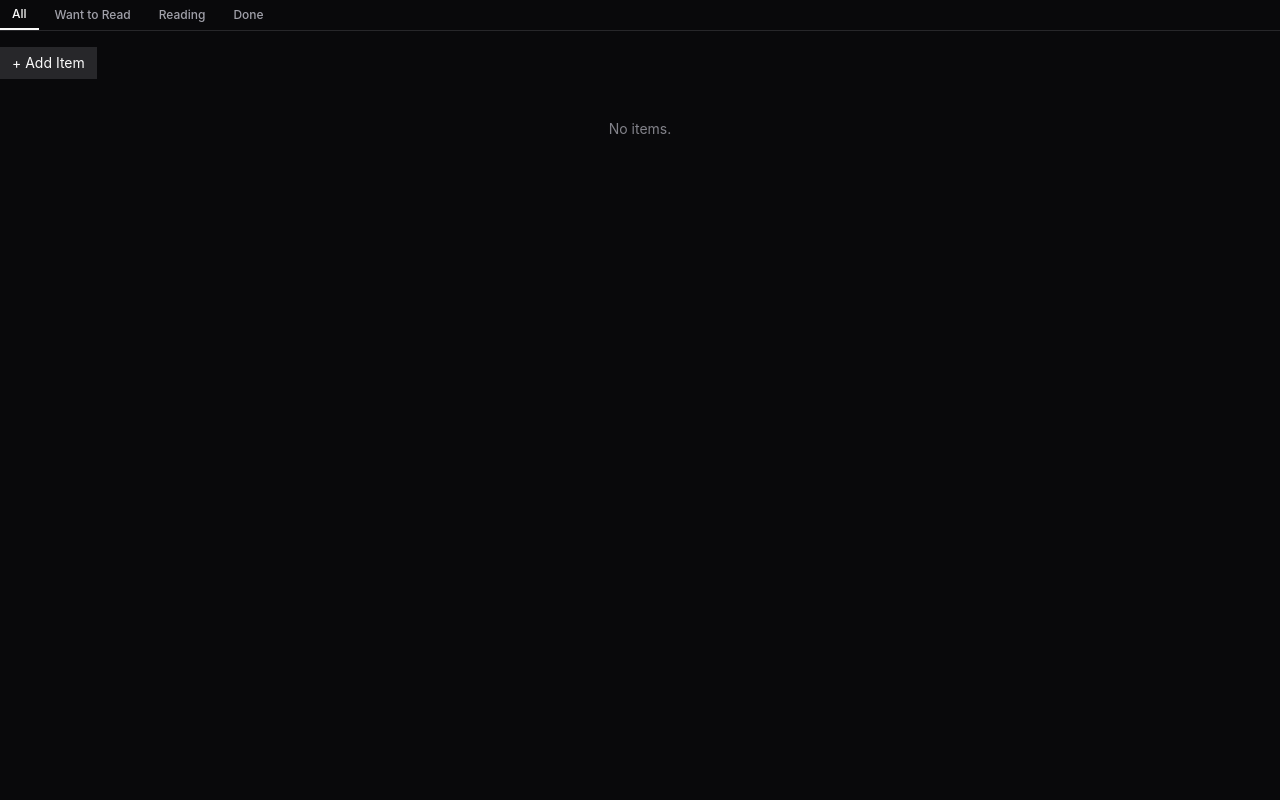
ReadingList › deletes an item
Click the button "+ Add Item": click(48, 63) [0,47,97,79]
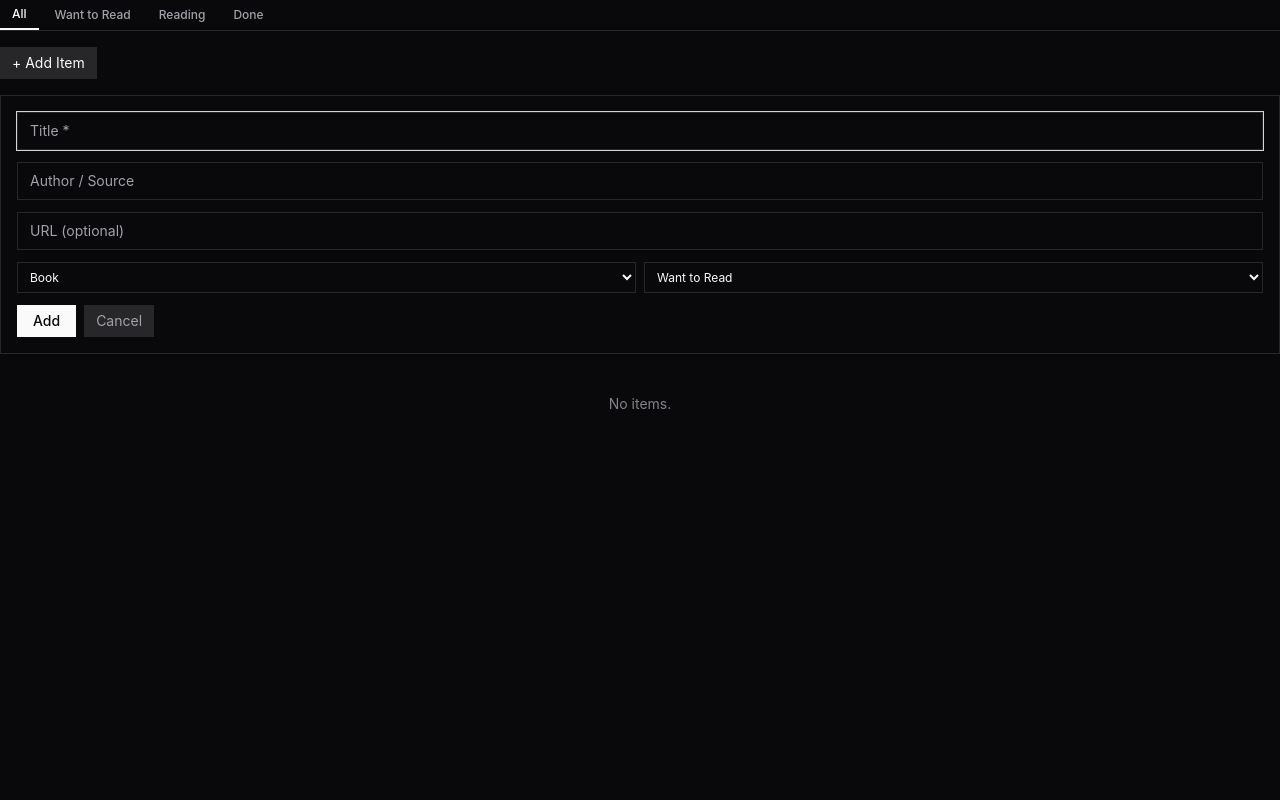
In the field with placeholder "Title *": (640, 131) [17,112,1263,150], type "To Delete"
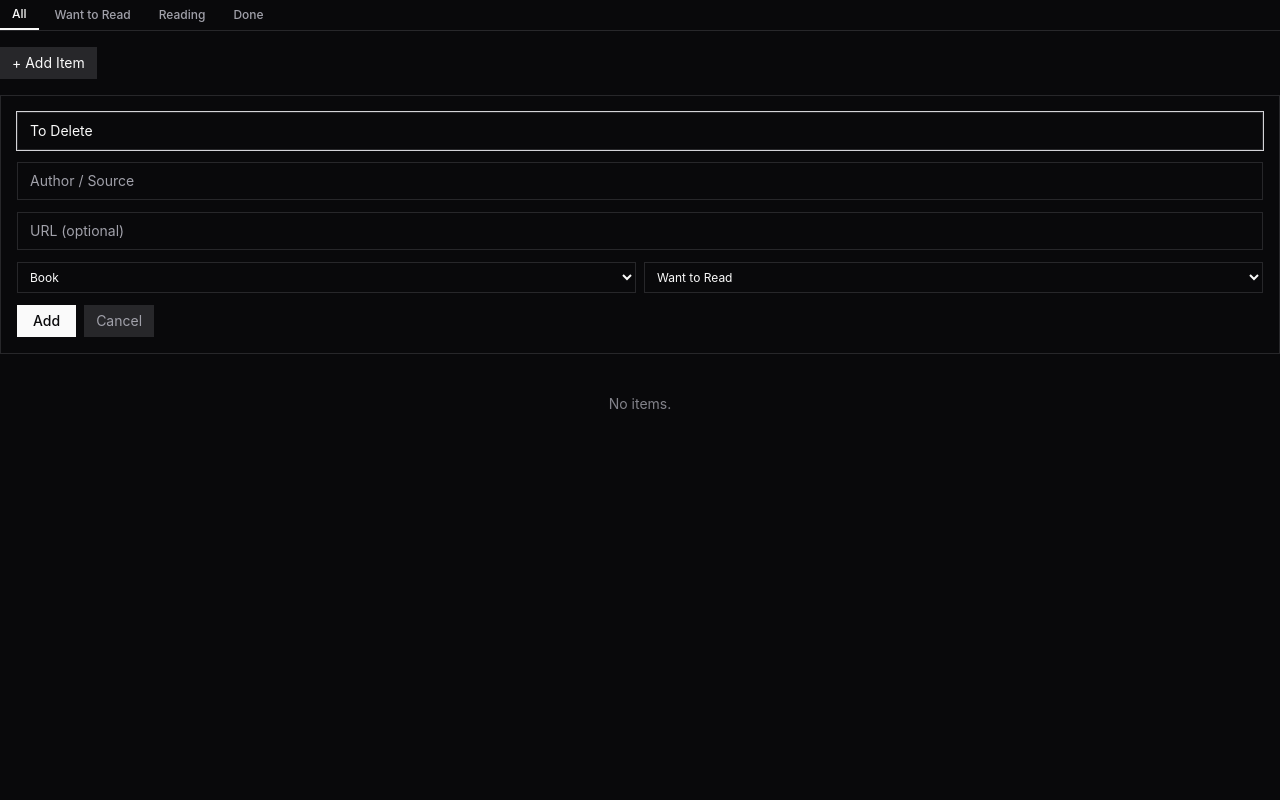
Click the button "Add": click(47, 321) [17,305,76,337]
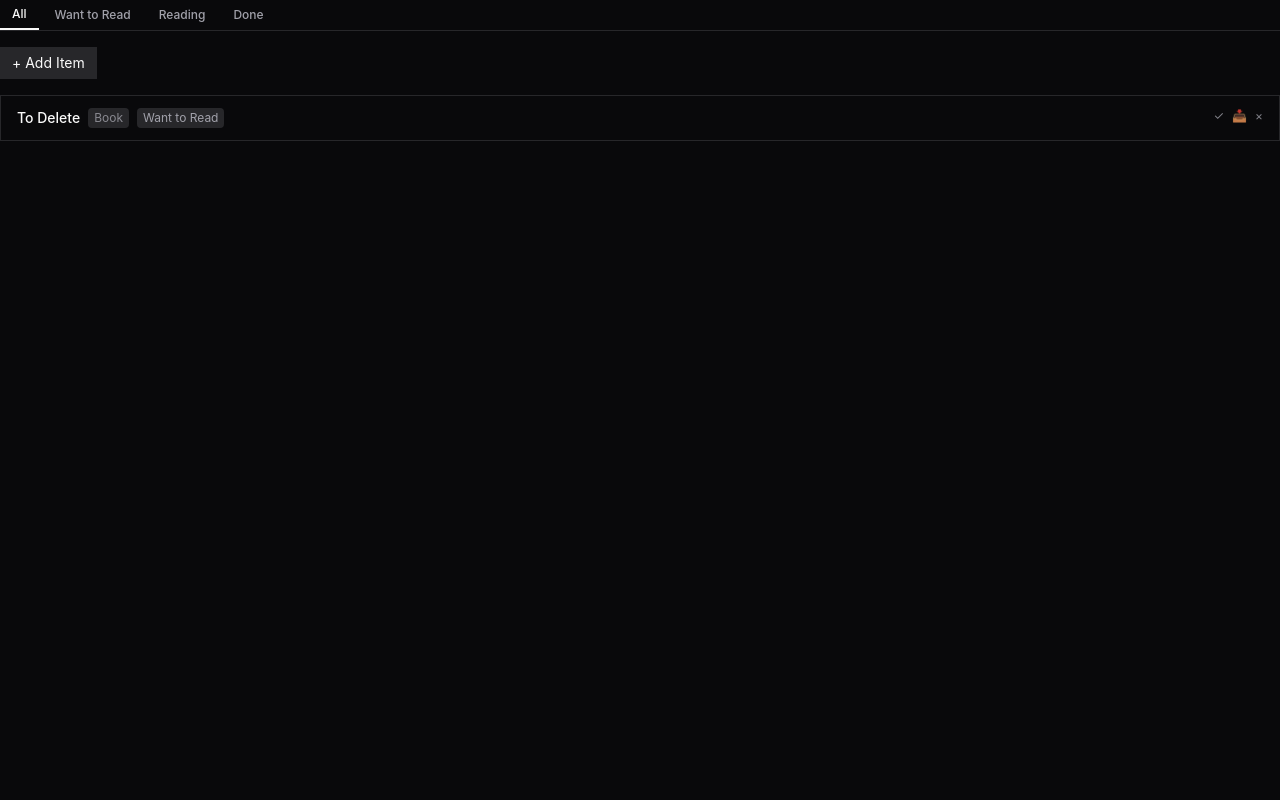
Check: the text "To Delete" is shown, box [17,108,80,128]
Click the button "×": click(1259, 116) [1255,108,1263,124]
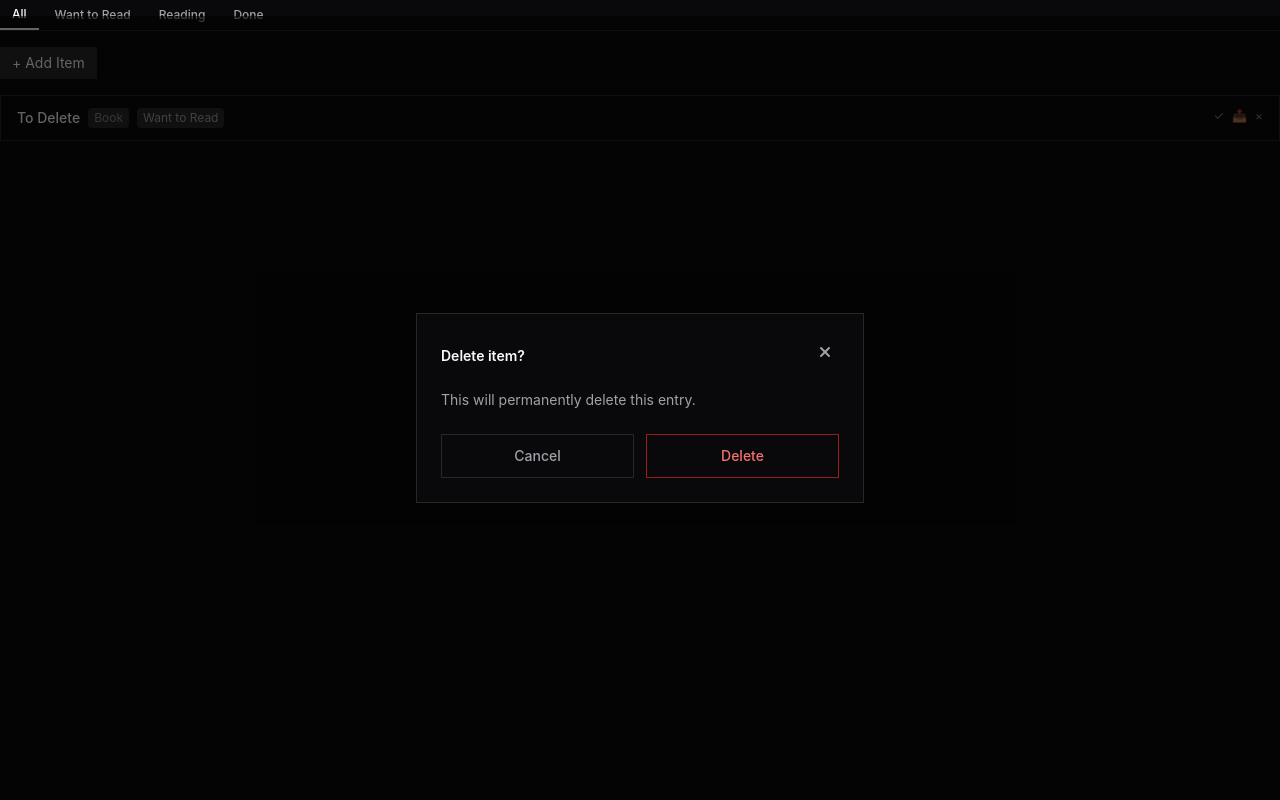
Check: the button with test id "confirm-delete" is shown
// Confirm the deletion dialog
Click the button with test id "confirm-delete": click(742, 456) [646,434,839,478]
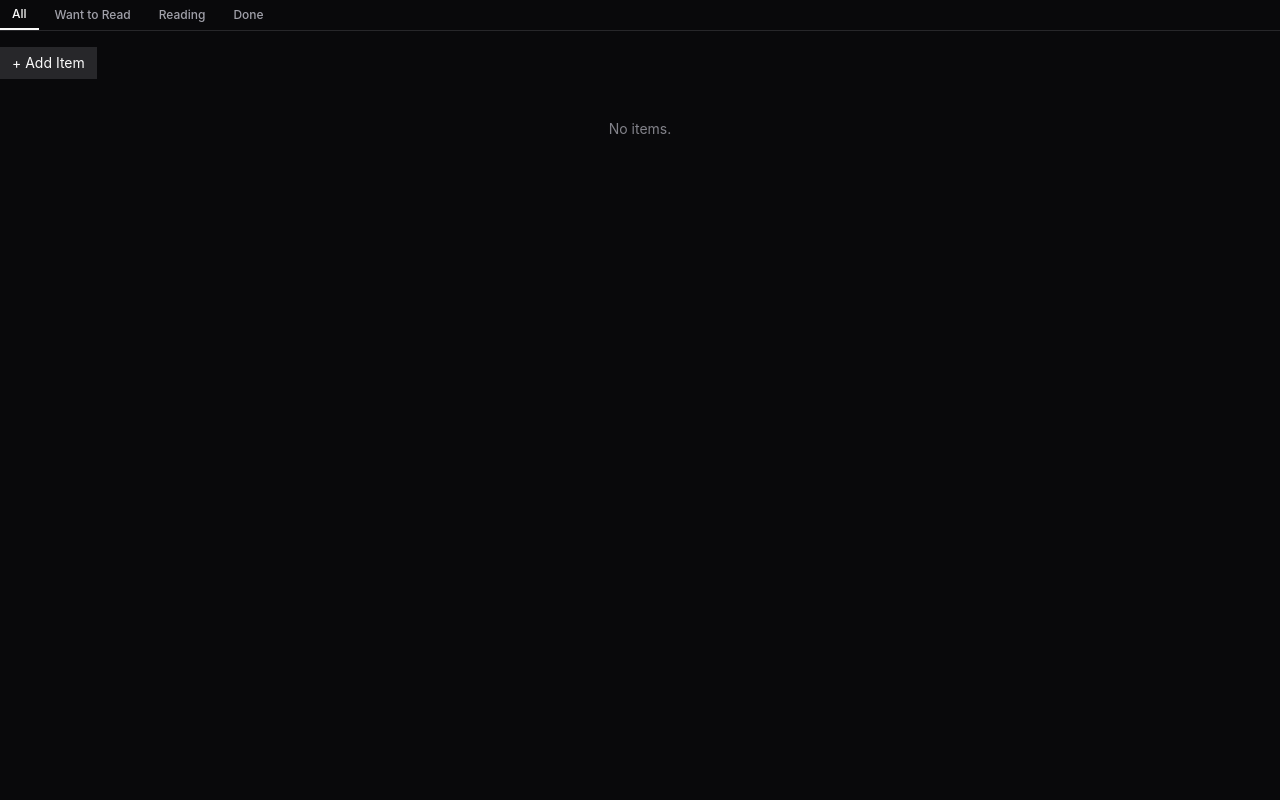
Check: the text "To Delete" is gone
